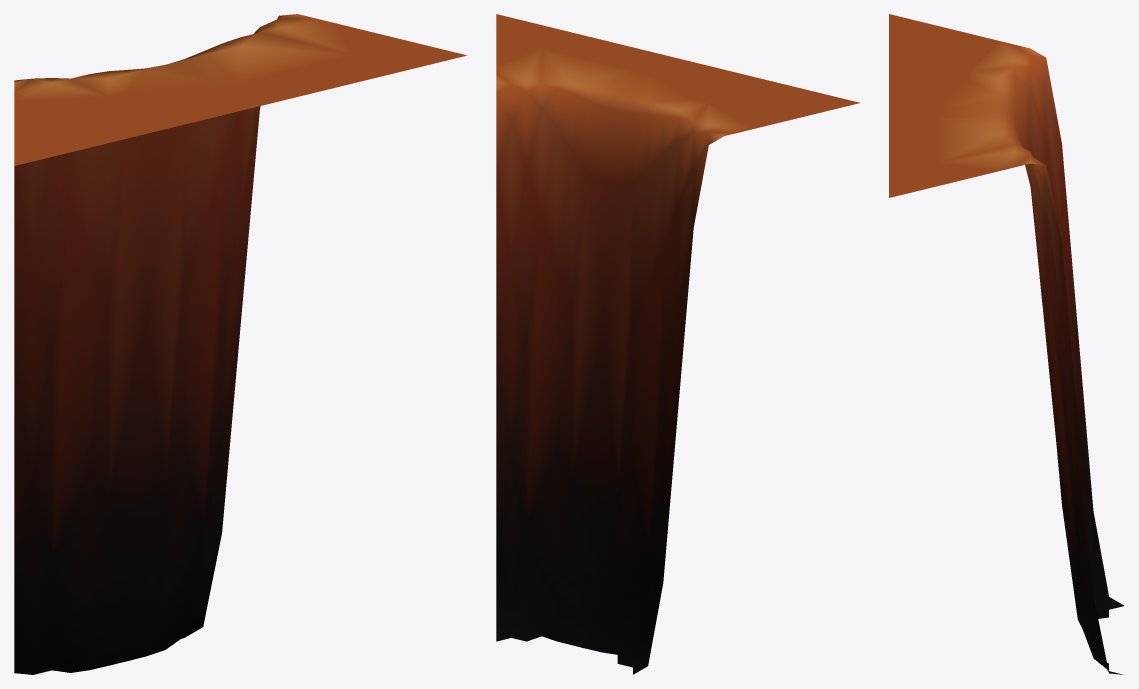
File: MODULE_DESERT_SHORT_IN.fbx
3 views of the same model, side by side, from view 1: azimuth 30°, elevation 25°; view 2: azimuth 150°, elevation 25°; view 3: azimuth 270°, elevation 25° (orthographic). The views are drawn at different scales.
Visible parts, largest first — view 1: MODULE_DESERT_SHORT_IN__export; view 2: MODULE_DESERT_SHORT_IN__export; view 3: MODULE_DESERT_SHORT_IN__export.
Part boxes in pixels (bbox=[...]): MODULE_DESERT_SHORT_IN__export: bbox=[14, 14, 467, 674]; MODULE_DESERT_SHORT_IN__export: bbox=[496, 14, 859, 674]; MODULE_DESERT_SHORT_IN__export: bbox=[889, 14, 1124, 674].
Bounding box in the file's own units: 100 × 135 × 54.13.
